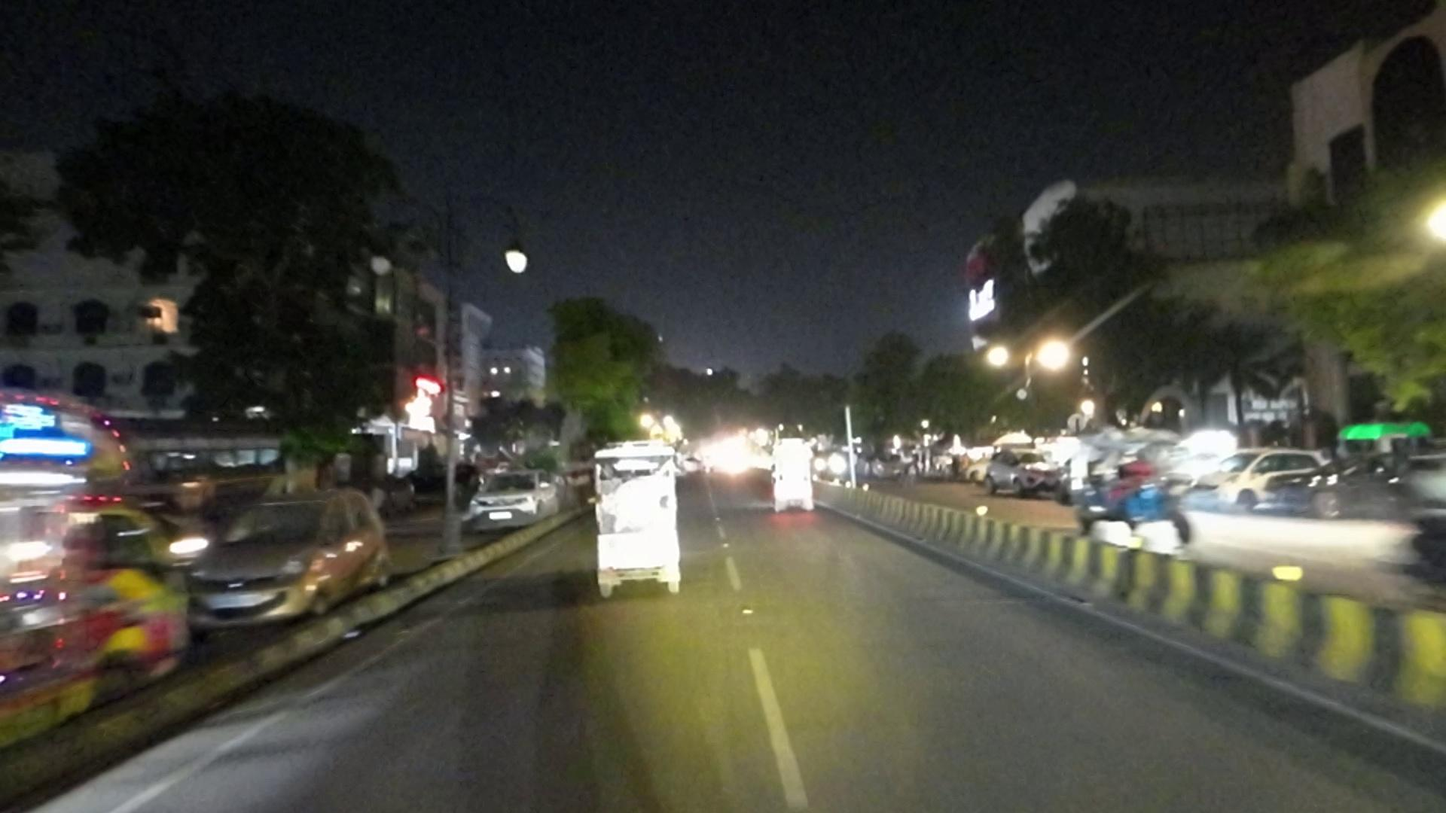streetlight: (358, 226, 407, 284)
